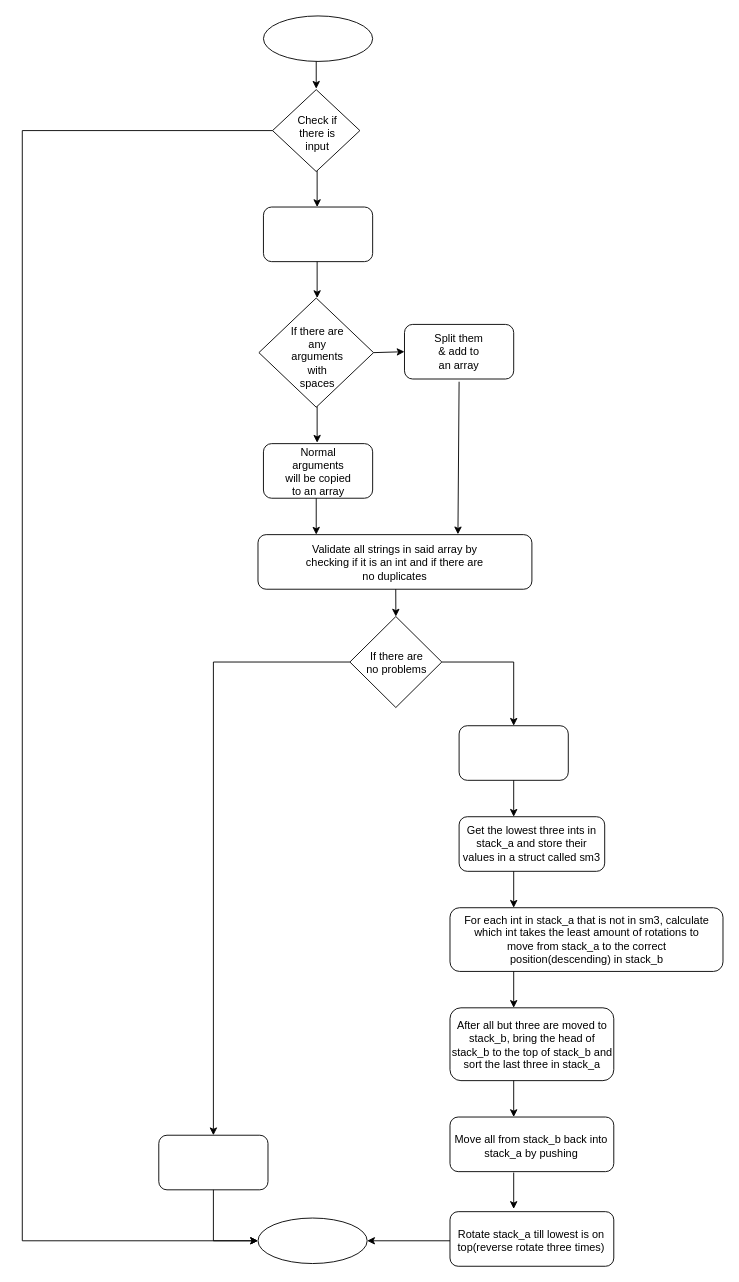
Image size: 739x1282. Some labels were removed from this diagram. Each missing label, with the box of its shape:
Convert all strings in array to int and store them in stack_a: (458, 725, 568, 780)
Create stack_a & receive arguments: (263, 206, 373, 262)
end: (257, 1217, 367, 1264)
Print to stderr "Error" with a nl: (158, 1134, 268, 1190)
start: (263, 15, 373, 61)
